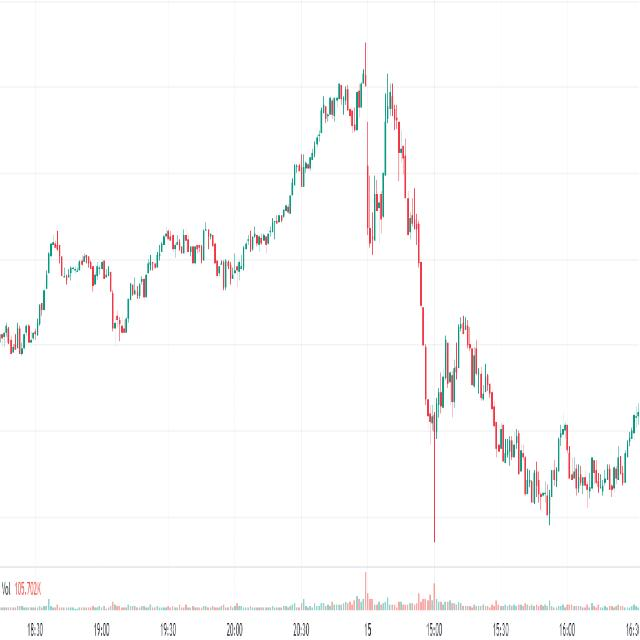Head-Shoulders: (368, 65, 427, 287), (431, 302, 499, 466)
